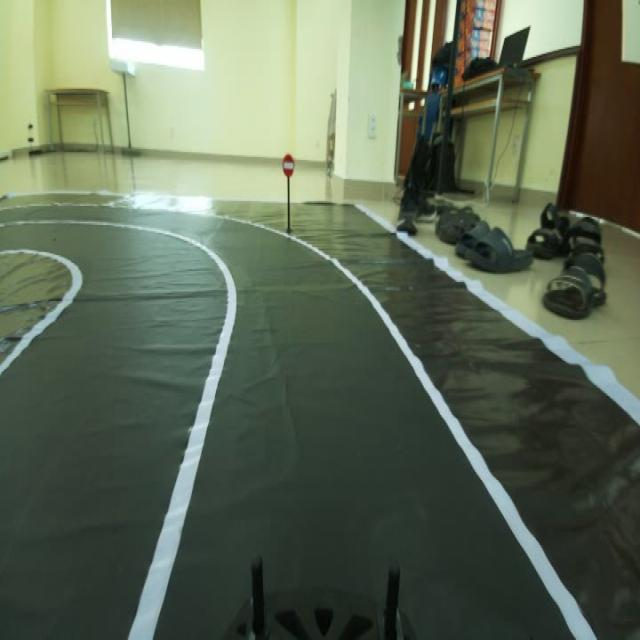no_entry: (280, 152, 300, 181)
